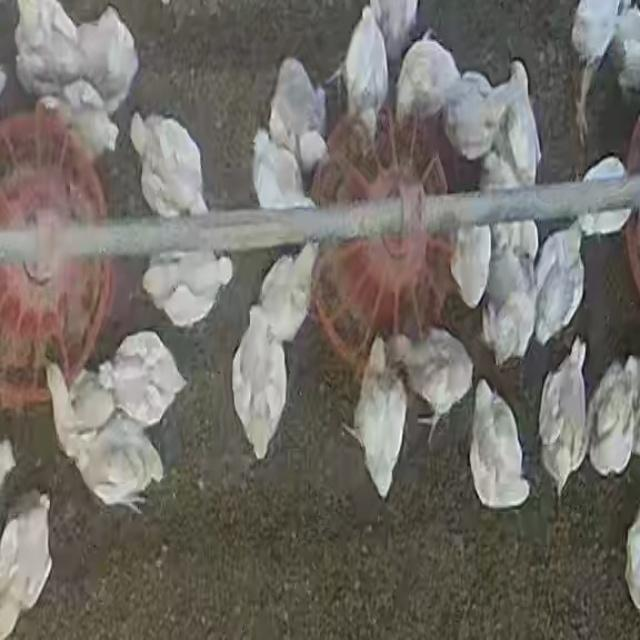chicken: (62, 421, 166, 510), (230, 304, 287, 460), (133, 114, 214, 220), (0, 496, 58, 638), (392, 325, 472, 425), (537, 342, 588, 496), (358, 332, 405, 497), (98, 332, 180, 424), (474, 383, 531, 512), (387, 32, 458, 126), (269, 53, 326, 167), (568, 0, 622, 120), (537, 220, 588, 347), (142, 255, 234, 325), (588, 356, 640, 474), (42, 86, 122, 162), (76, 5, 135, 108), (248, 130, 319, 214), (484, 157, 541, 261), (485, 245, 536, 360), (341, 14, 389, 135), (15, 0, 79, 90), (260, 240, 318, 336), (49, 364, 111, 446), (501, 58, 541, 181), (444, 74, 499, 160), (452, 219, 494, 309)
